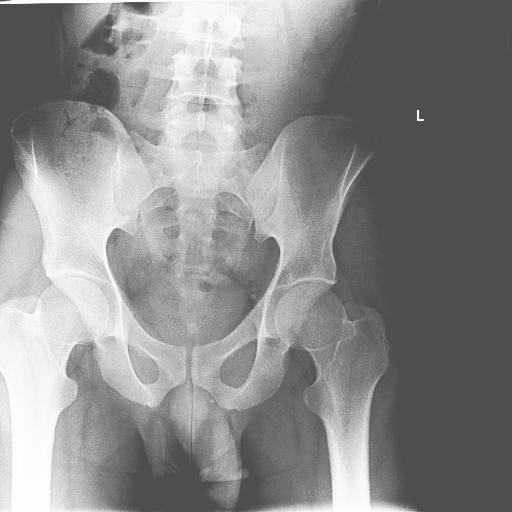normal: (275, 285, 389, 462), (0, 276, 108, 459)
